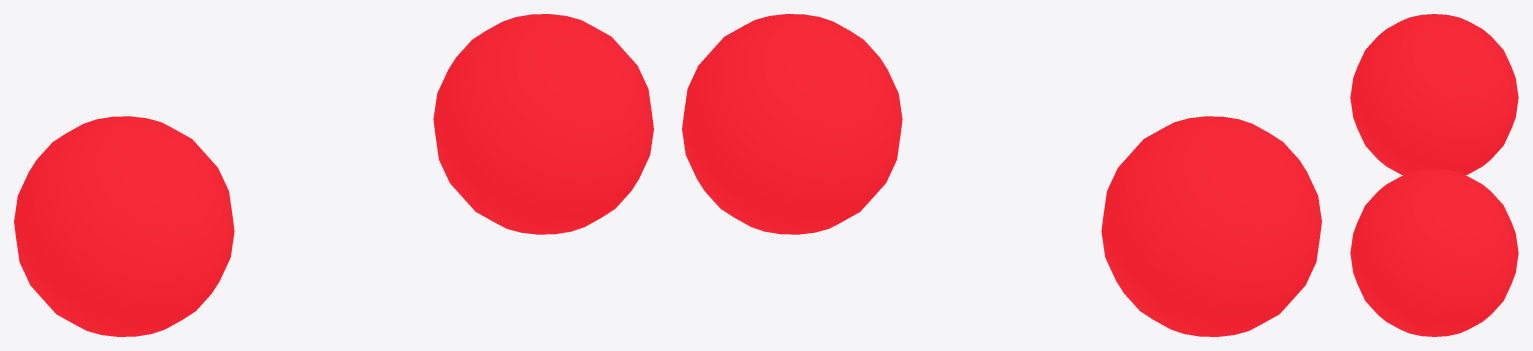
Rendered from eyes_v01.glb.
3 views of the same model, side by side, from view 1: azimuth 30°, elevation 25°; view 2: azimuth 150°, elevation 25°; view 3: azimuth 270°, elevation 25° (orthographic). The views are drawn at different scales.
Visible parts, largest first — view 1: Eye_L, Eye_R; view 2: Eye_L, Eye_R; view 3: Eye_R, Eye_L.
Boxes of the visible parts, x1=… form: Eye_L: x1=14, y1=116, x2=234, y2=336; Eye_R: x1=433, y1=14, x2=653, y2=234; Eye_L: x1=1101, y1=116, x2=1321, y2=336; Eye_R: x1=682, y1=14, x2=902, y2=234; Eye_R: x1=1350, y1=169, x2=1518, y2=336; Eye_L: x1=1350, y1=14, x2=1518, y2=175.
Bounding box in the file's own units: 0.554 × 0.174 × 0.174.
